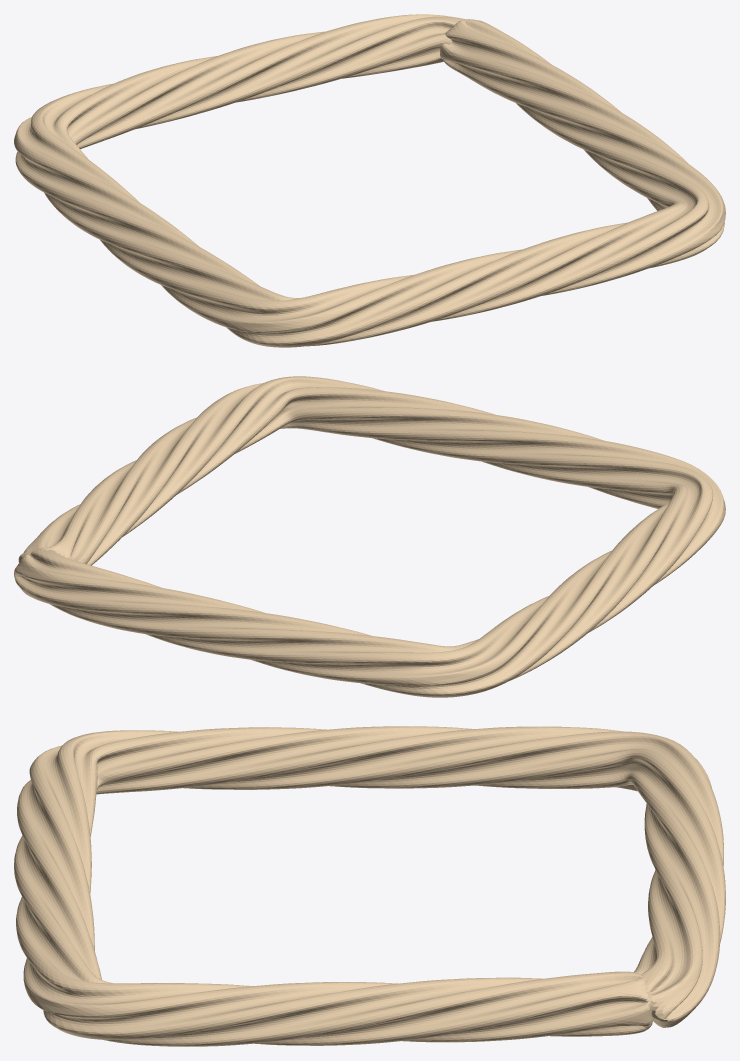
Rendered from CakeFillGlazeCream.glb.
The picture shows the model from 3 angles, top to bottom: view 1: azimuth 30°, elevation 25°; view 2: azimuth 150°, elevation 25°; view 3: azimuth 270°, elevation 25°; orthographic projection. The views are drawn at different scales.
Visible parts, largest first — view 1: Cylinder.011; view 2: Cylinder.011; view 3: Cylinder.011.
Part boxes in pixels (x1,y1,x2,y2): Cylinder.011: [14, 14, 725, 347]; Cylinder.011: [14, 376, 725, 697]; Cylinder.011: [14, 726, 725, 1046].
Size of the model in its own units: 1.96 by 0.1996 by 2.02.
